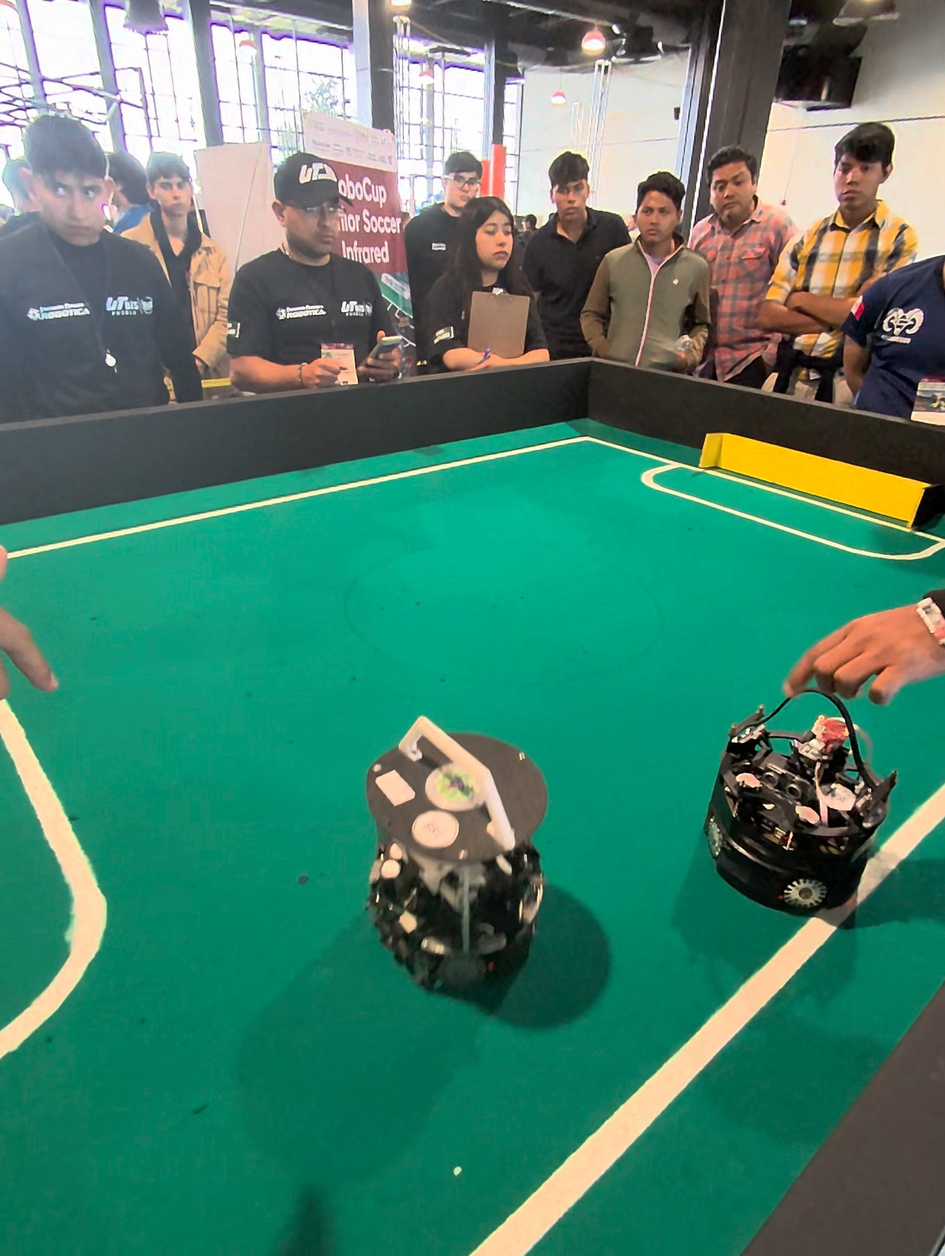Robot: (347, 695, 558, 1024), (709, 688, 903, 931)
